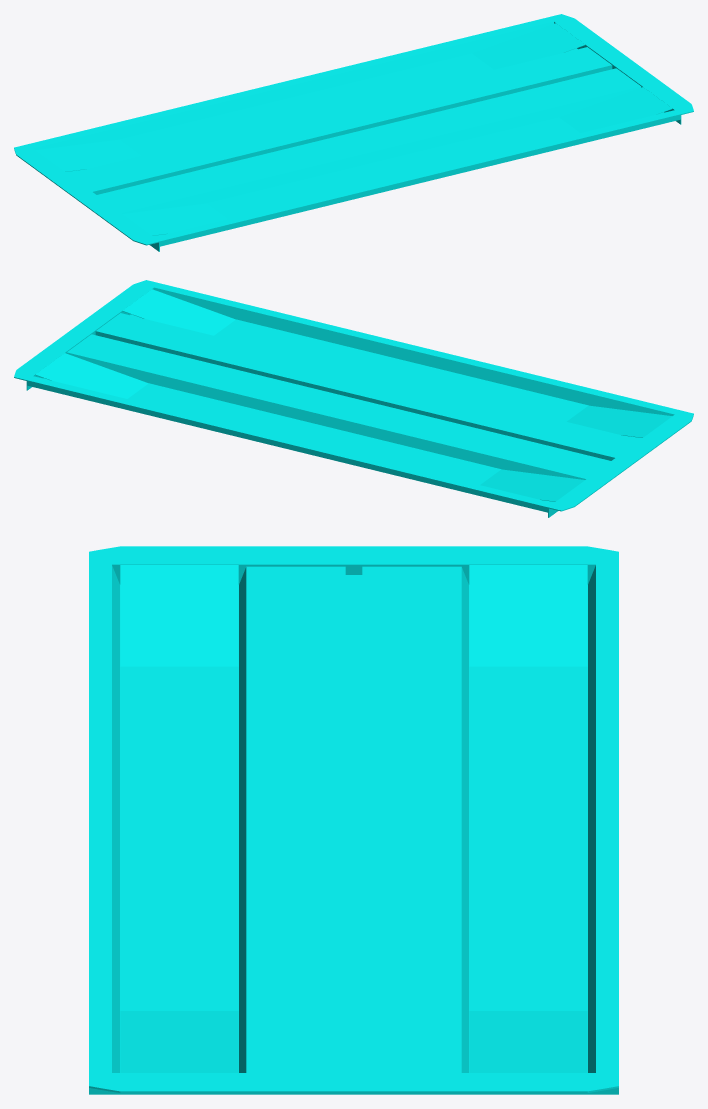
Rendered from PALLET.obj.
3 renders of one model, top to bottom at view 1: azimuth 30°, elevation 25°; view 2: azimuth 150°, elevation 25°; view 3: azimuth 270°, elevation 25°, orthographic. The views are drawn at different scales.
Parts seen in each view (by area): view 1: PALLET; view 2: PALLET; view 3: PALLET.
Part boxes in pixels (x1,y1,x2,y2): PALLET: [14, 14, 693, 251]; PALLET: [14, 280, 693, 517]; PALLET: [89, 546, 618, 1094].
Size of the model in its own units: 5350 by 95 by 2200.
